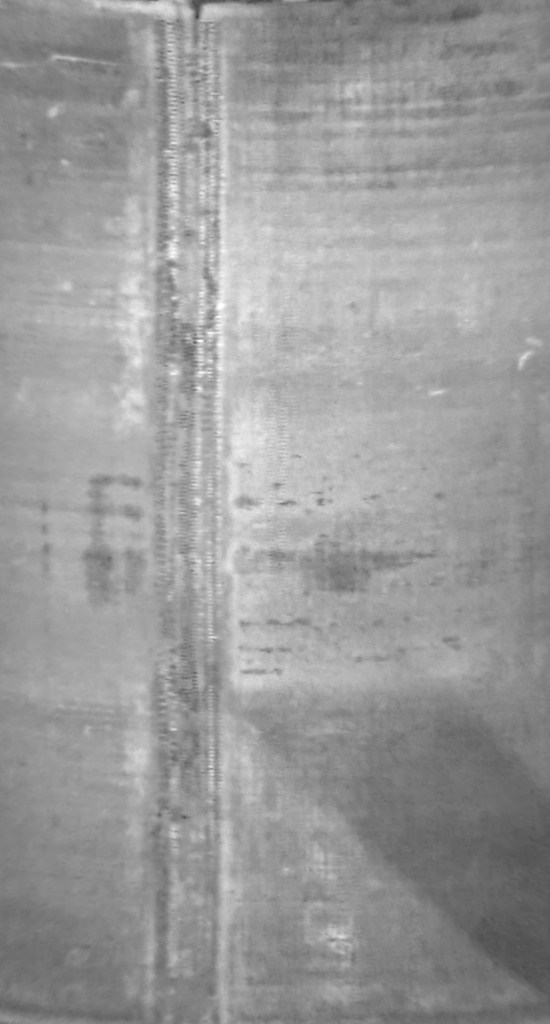splice: (141, 1, 238, 1021)
